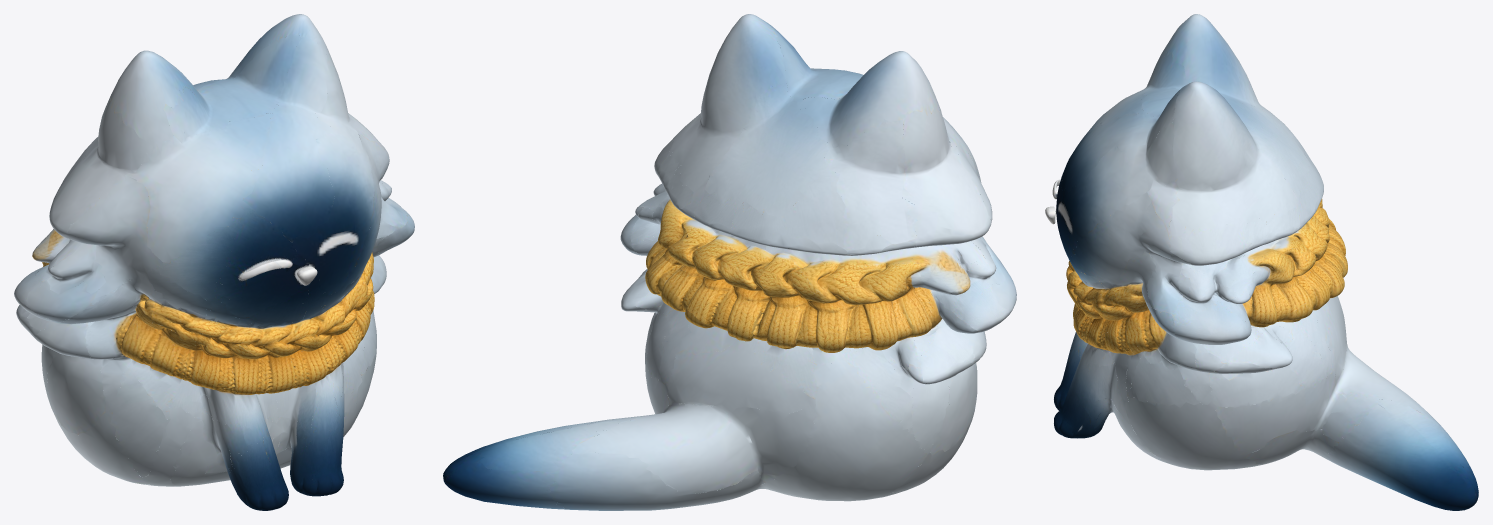
Rendered from honey-neck-warmer-UU-h14W4.glb.
The picture shows the model from 3 angles, left to right: view 1: azimuth 30°, elevation 25°; view 2: azimuth 150°, elevation 25°; view 3: azimuth 270°, elevation 25°; orthographic projection. The views are drawn at different scales.
Parts seen in each view (by area): view 1: worn-honey-neck-warmer; view 2: worn-honey-neck-warmer; view 3: worn-honey-neck-warmer.
Boxes of the visible parts, box(x1,y1,x2,y2) form: worn-honey-neck-warmer: box(14, 14, 414, 510); worn-honey-neck-warmer: box(443, 14, 1016, 510); worn-honey-neck-warmer: box(1045, 14, 1478, 510).
Size of the model in its own units: 1.9 by 1.78 by 1.87.
1 material, 1 textured.
